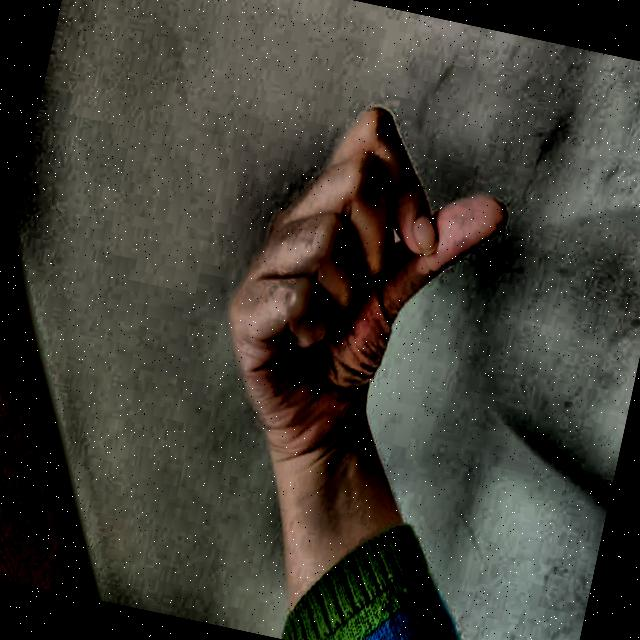Ay: (177, 59, 552, 505)
